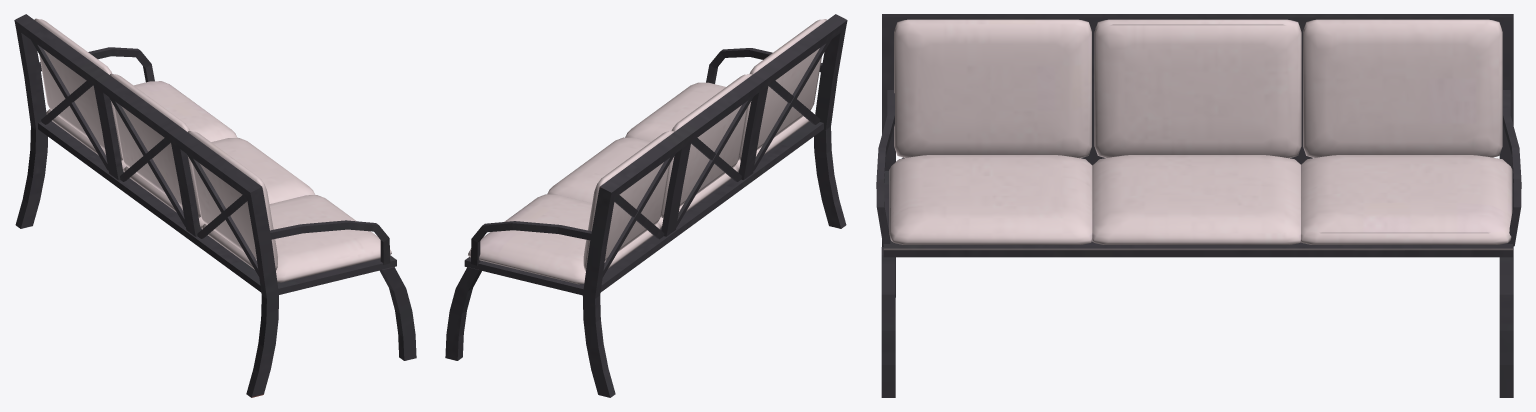
3 views of the same model, side by side, from view 1: azimuth 30°, elevation 25°; view 2: azimuth 150°, elevation 25°; view 3: azimuth 270°, elevation 25° (orthographic). The views are drawn at different scales.
Visible parts, largest first — view 1: decorative_sofa_LOD0_1; view 2: decorative_sofa_LOD0_1; view 3: decorative_sofa_LOD0_1.
Part boxes in pixels (x1,y1,x2,y2): decorative_sofa_LOD0_1: (14, 14, 416, 397); decorative_sofa_LOD0_1: (445, 14, 847, 397); decorative_sofa_LOD0_1: (876, 14, 1521, 397).
Bounding box in the file's own units: 1.29 × 1.56 × 3.24.
Materials: 1 (1 with a texture image).
